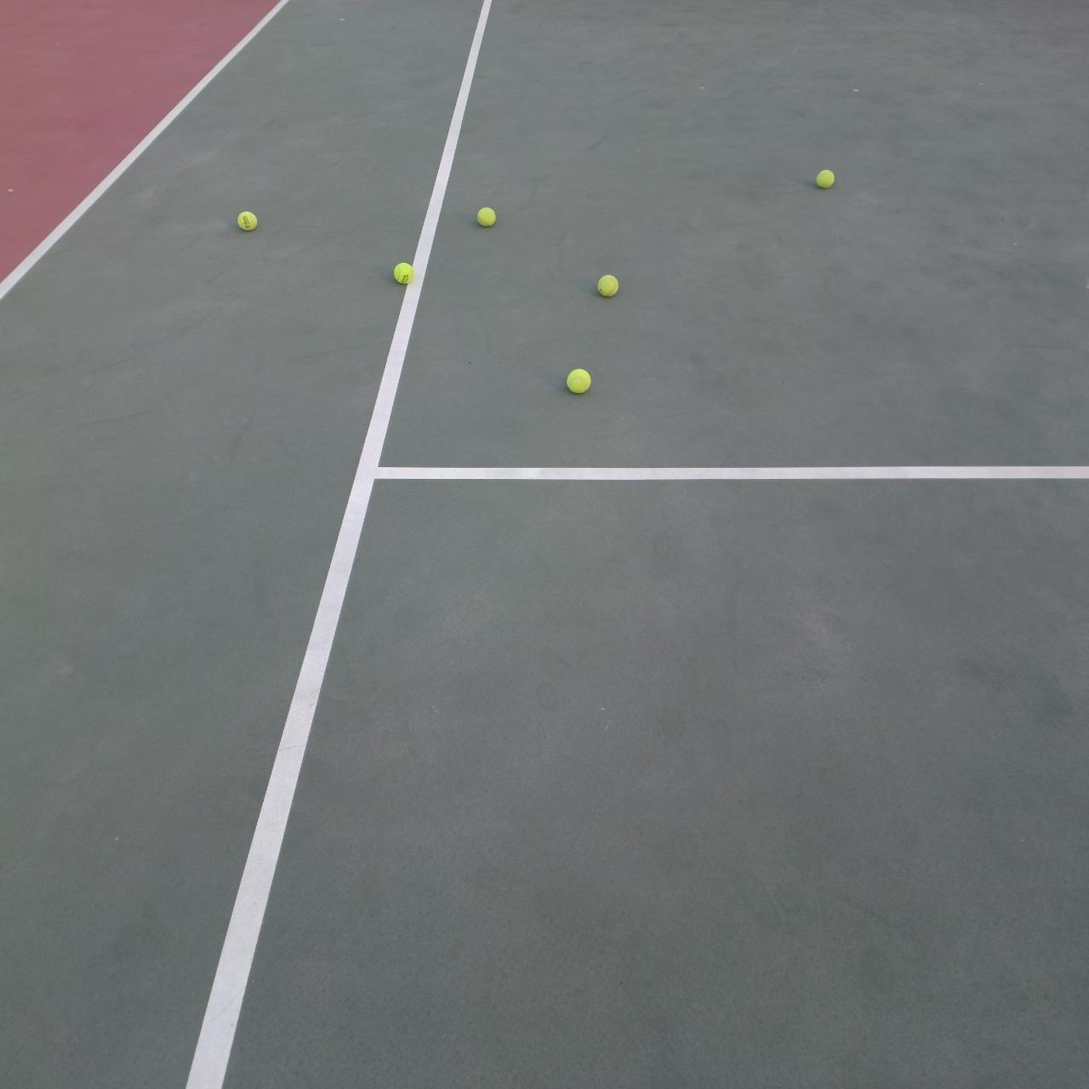tennis-ball: (565, 366, 592, 394), (596, 272, 619, 297), (391, 260, 413, 284), (236, 208, 258, 231), (475, 204, 496, 227), (814, 168, 835, 189)
